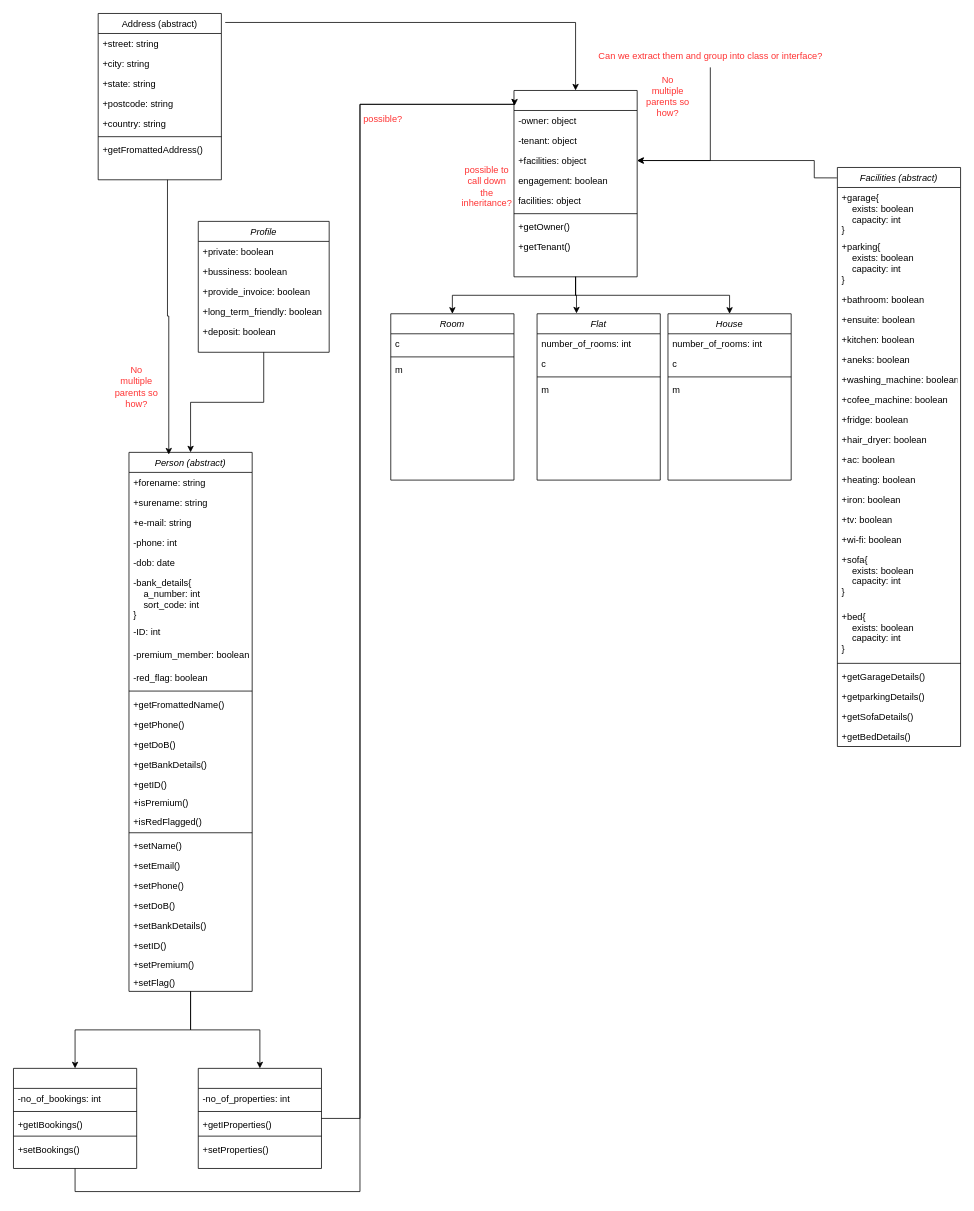
This 974x1211 diagram has some shape labels left out. The shapes that lost their labels are listed below. From the top down, each one's box as (x1, y1, x2, y2) in pixels, then its label:
(513, 90, 637, 277): Property (abstract)
(13, 1068, 137, 1168): Tenant
(198, 1068, 321, 1168): Landlord
